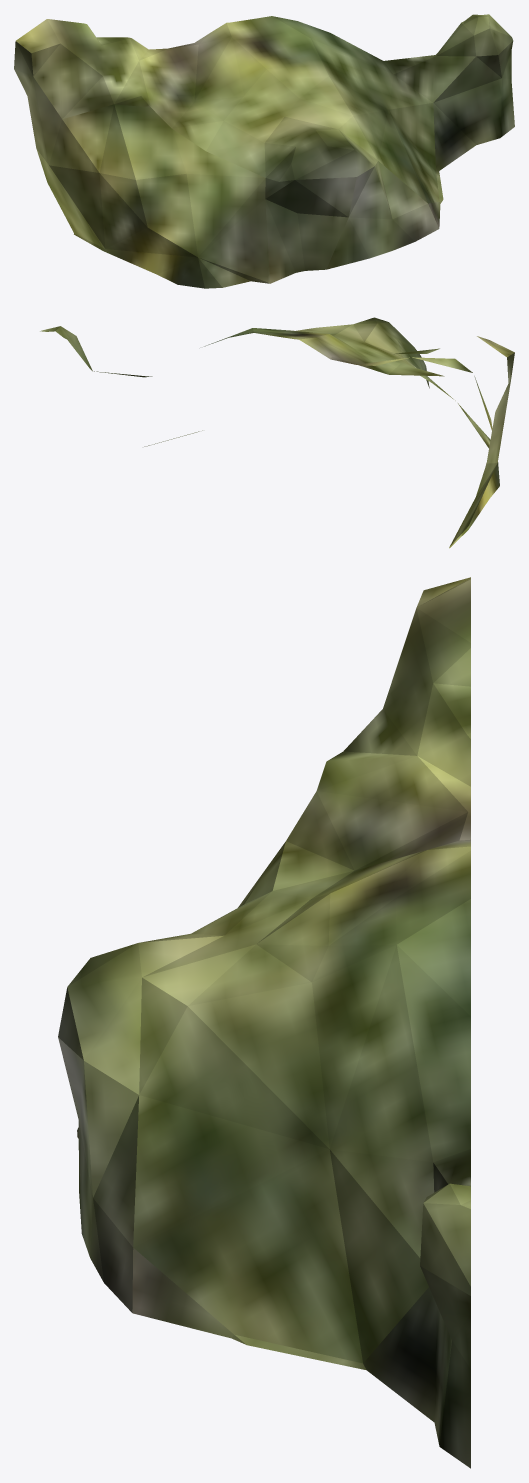
The picture shows the model from 3 angles, top to bottom: view 1: azimuth 30°, elevation 25°; view 2: azimuth 150°, elevation 25°; view 3: azimuth 270°, elevation 25°; orthographic projection. The views are drawn at different scales.
Bounding box in the file's own units: 0.9203 × 0.39 × 0.3328.
Materials: 1 (1 with a texture image).
